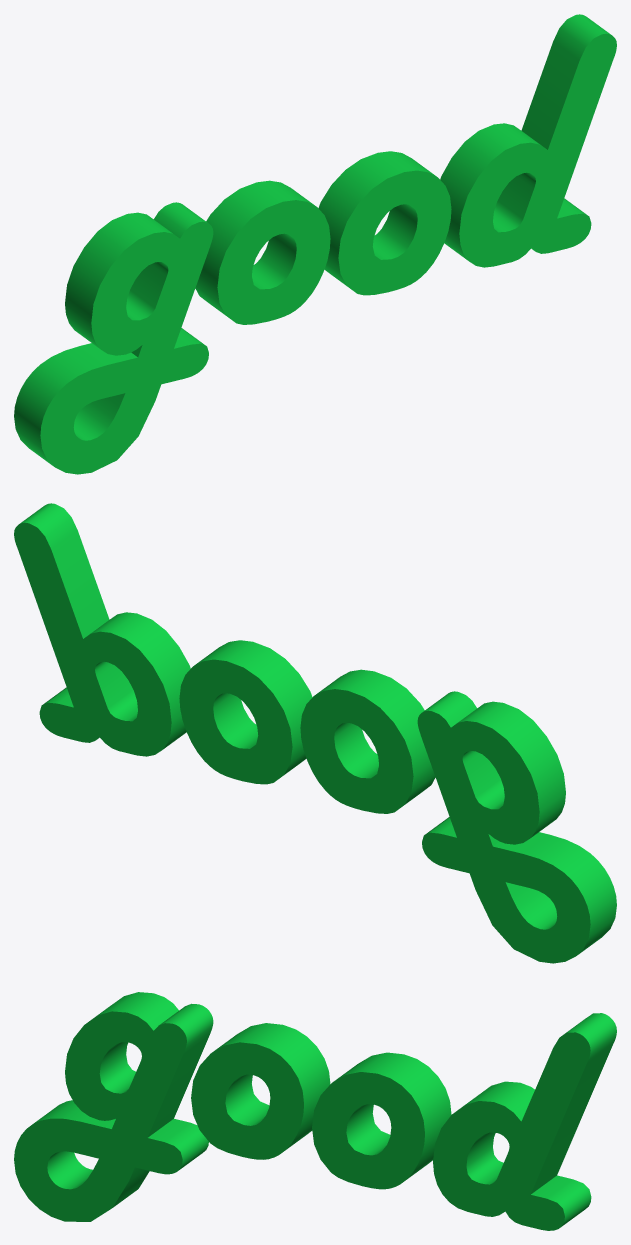
The model's file is good.fbx.
3 renders of one model, top to bottom at view 1: azimuth 30°, elevation 25°; view 2: azimuth 150°, elevation 25°; view 3: azimuth 330°, elevation 25°, orthographic.
Visible parts, largest first — view 1: node_id43; view 2: node_id43; view 3: node_id43.
Part boxes in pixels (left/top/right/bottom): node_id43: left=14, top=14, right=616, bottom=474; node_id43: left=14, top=503, right=616, bottom=963; node_id43: left=14, top=992, right=616, bottom=1230.
Bounding box in the file's own units: 0.189 × 0.0983 × 0.015.
